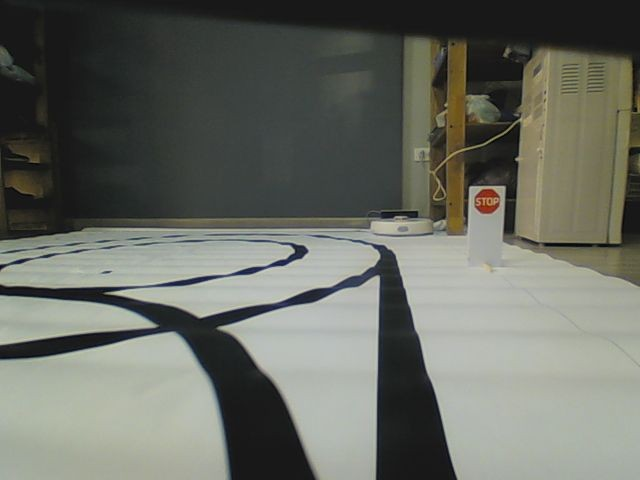Stop: (474, 188, 501, 214)
